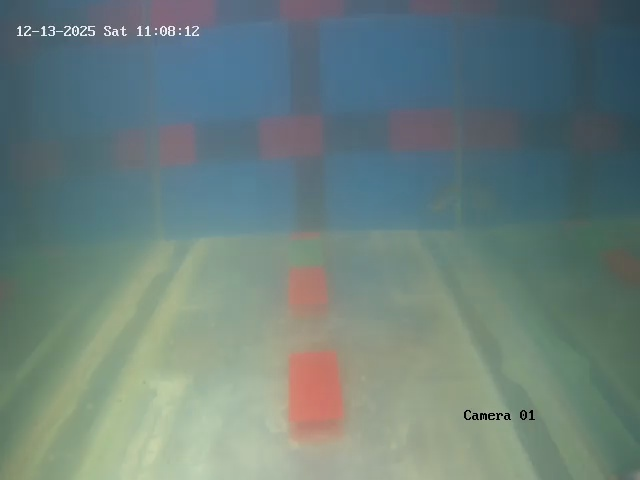fish: (427, 189, 460, 215)
